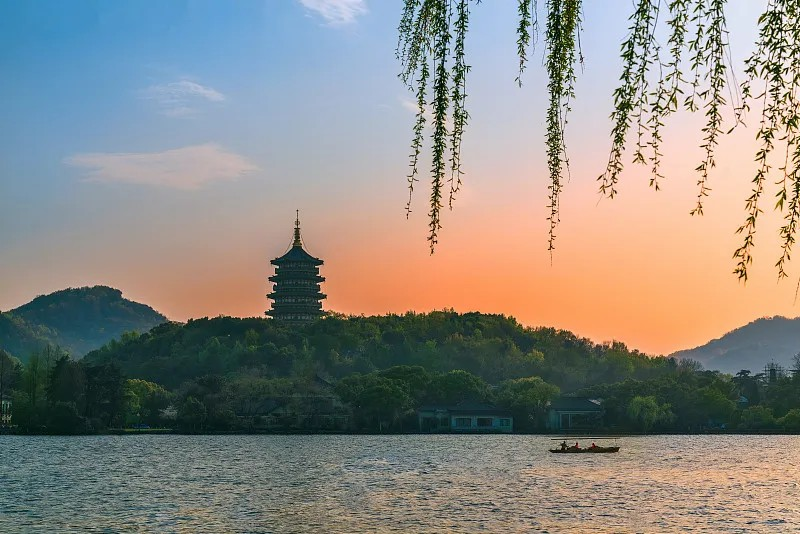Leifeng: (265, 209, 331, 321)
